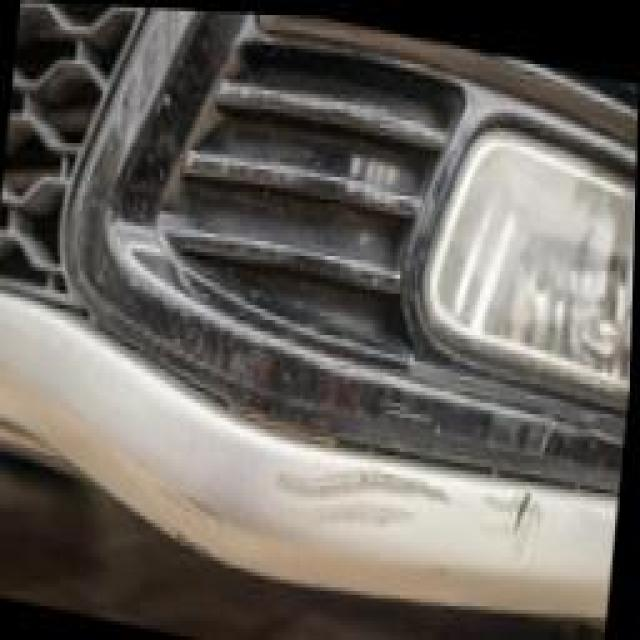Bumper: (160, 309, 579, 605)
